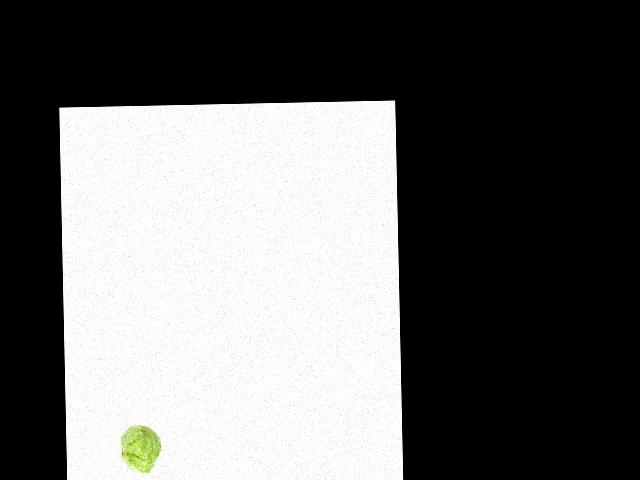lettuce: (120, 420, 166, 478)
